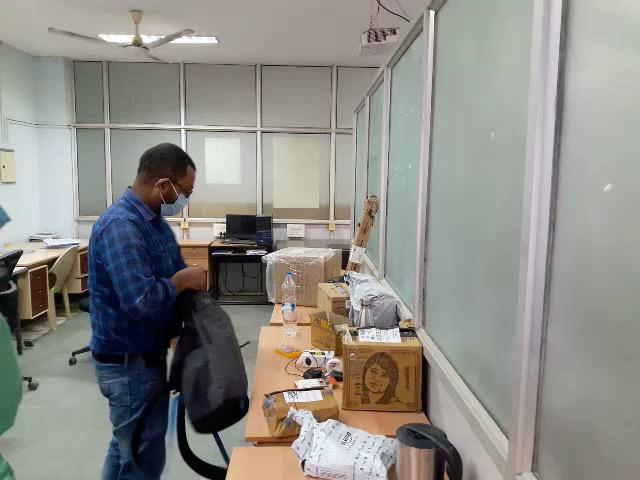shoplifting: (53, 226, 281, 467)
